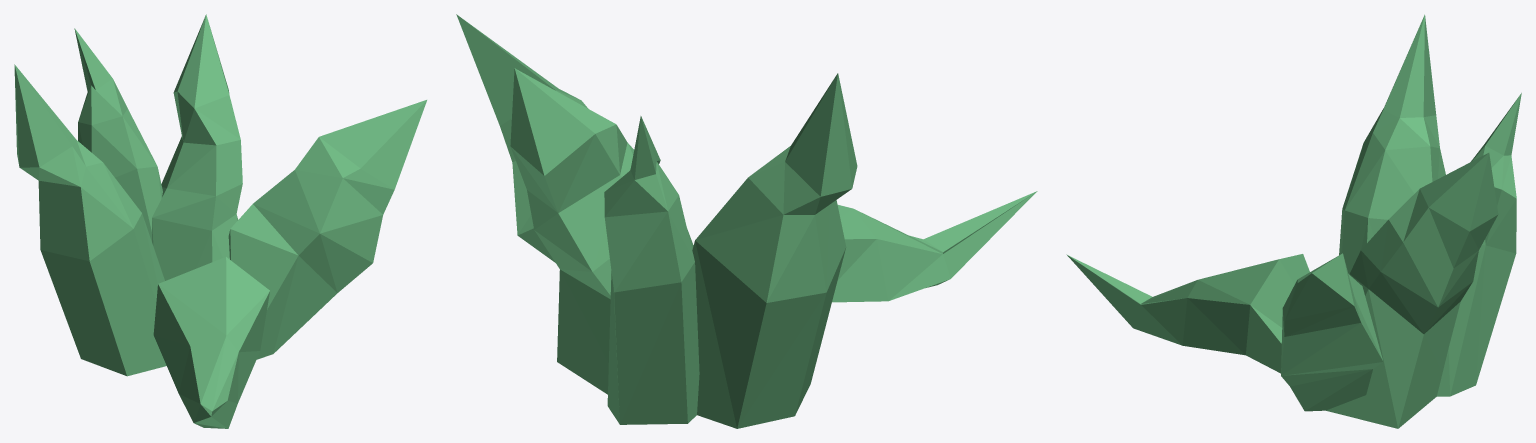
The model's file is _crystal_6.fbx.
The picture shows the model from 3 angles, left to right: view 1: azimuth 30°, elevation 25°; view 2: azimuth 150°, elevation 25°; view 3: azimuth 270°, elevation 25°; orthographic projection. The views are drawn at different scales.
Visible parts, largest first — view 1: crystal_6; view 2: crystal_6; view 3: crystal_6.
Part boxes in pixels (<box>): crystal_6: <box>14,14,426,428</box>; crystal_6: <box>456,14,1037,428</box>; crystal_6: <box>1066,14,1521,428</box>.
Size of the model in its own units: 132 by 103 by 143.
